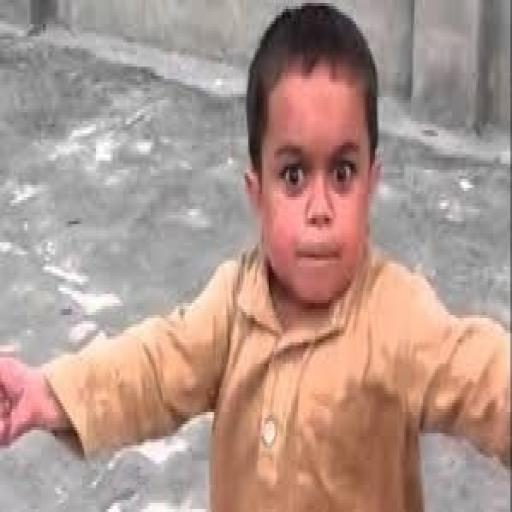dancing: (0, 3, 510, 509)
